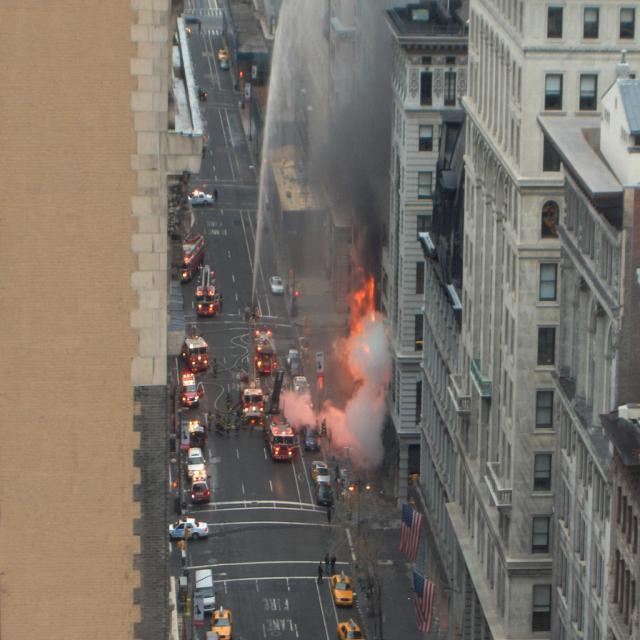Fire: (354, 288, 378, 382)
